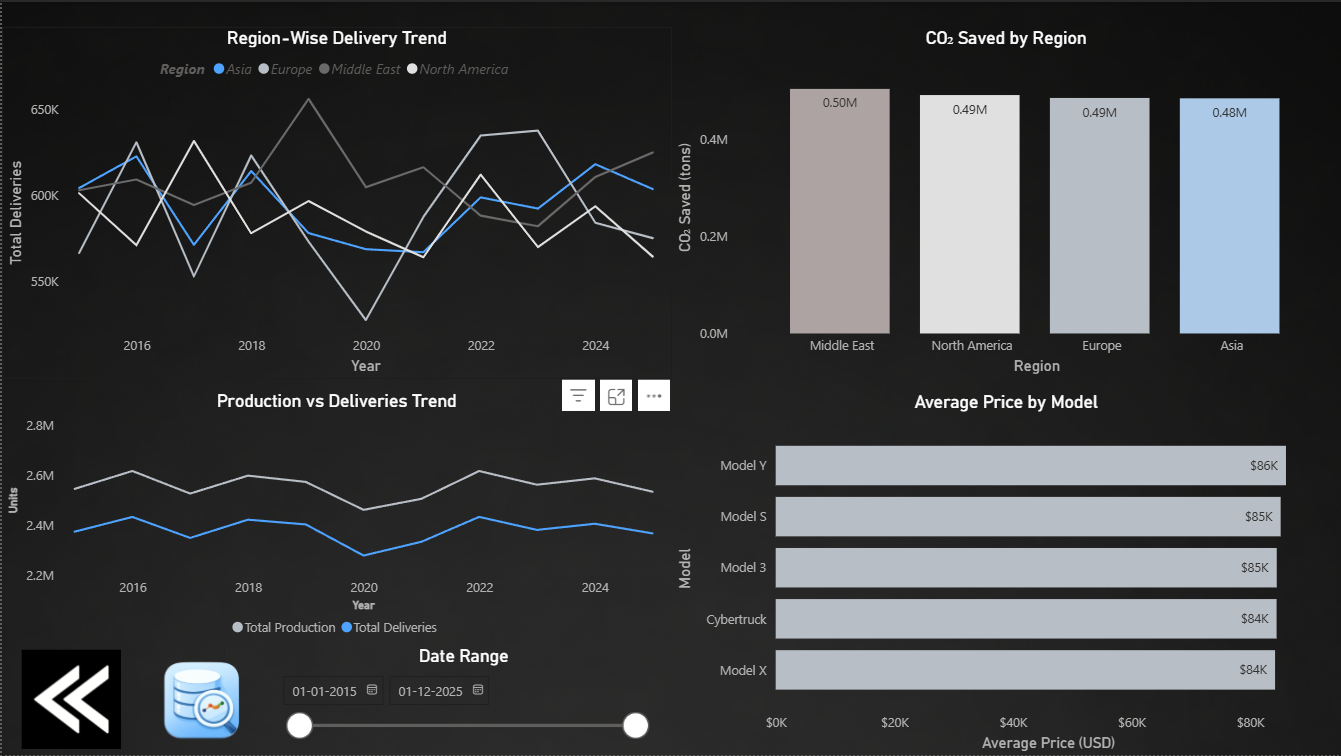

Layout of this report page (visuals, bound fields, positions):
{"tool":"powerbi","page":{"name":"DashBoard2","canvas":[1280,720],"ordinal":2},"visuals":[{"type":"slicer","title":"Date Range","fields":{"Values":["Dim_Date.Date"]},"box":[256,615,370.9,104.3],"z":0},{"type":"actionButton","box":[14.5,615,102.9,104.3],"z":1000},{"type":"lineChart","title":"Region-Wise Delivery Trend","fields":{"Category":["Dim_Date.Date.Variation.Date Hierarchy.Year"],"Y":["Measure.Total Deliveries"],"Series":["Dim_Product.Region"]},"box":[0,24.1,640.2,336.8],"z":2000},{"type":"clusteredColumnChart","title":"CO₂ Saved by Region","fields":{"Category":["Dim_Product.Region"],"Y":["Measure.Total CO2 Saved"]},"box":[640.2,24.1,640.2,336.8],"z":3000},{"type":"lineChart","title":"Production vs Deliveries Trend","fields":{"Category":["Dim_Date.Year"],"Y":["Measure.Total Production","Measure.Total Deliveries"]},"box":[0,371,640,245],"z":4000},{"type":"barChart","fields":{"Category":["Dim_Product.Model"],"Y":["Measure.Average Price"]},"box":[640.2,371.6,640.2,348.8],"z":5000},{"type":"actionButton","box":[134.6,615,112.2,105.6],"z":6000}]}

Visuals, with their boxes in screenshot pixels (x1, y1, x2, y2), scaled from the page's 1280x720 canvas onto the 1341x756 screenshot:
"Date Range" slicer: select_region(268, 646, 657, 755)
actionButton: select_region(15, 646, 123, 755)
"Region-Wise Delivery Trend" lineChart: select_region(0, 25, 671, 379)
"CO₂ Saved by Region" clusteredColumnChart: select_region(671, 25, 1340, 379)
"Production vs Deliveries Trend" lineChart: select_region(0, 390, 670, 647)
barChart - Dim_Product.Model x Measure.Average Price: select_region(671, 390, 1340, 755)
actionButton: select_region(141, 646, 259, 755)
